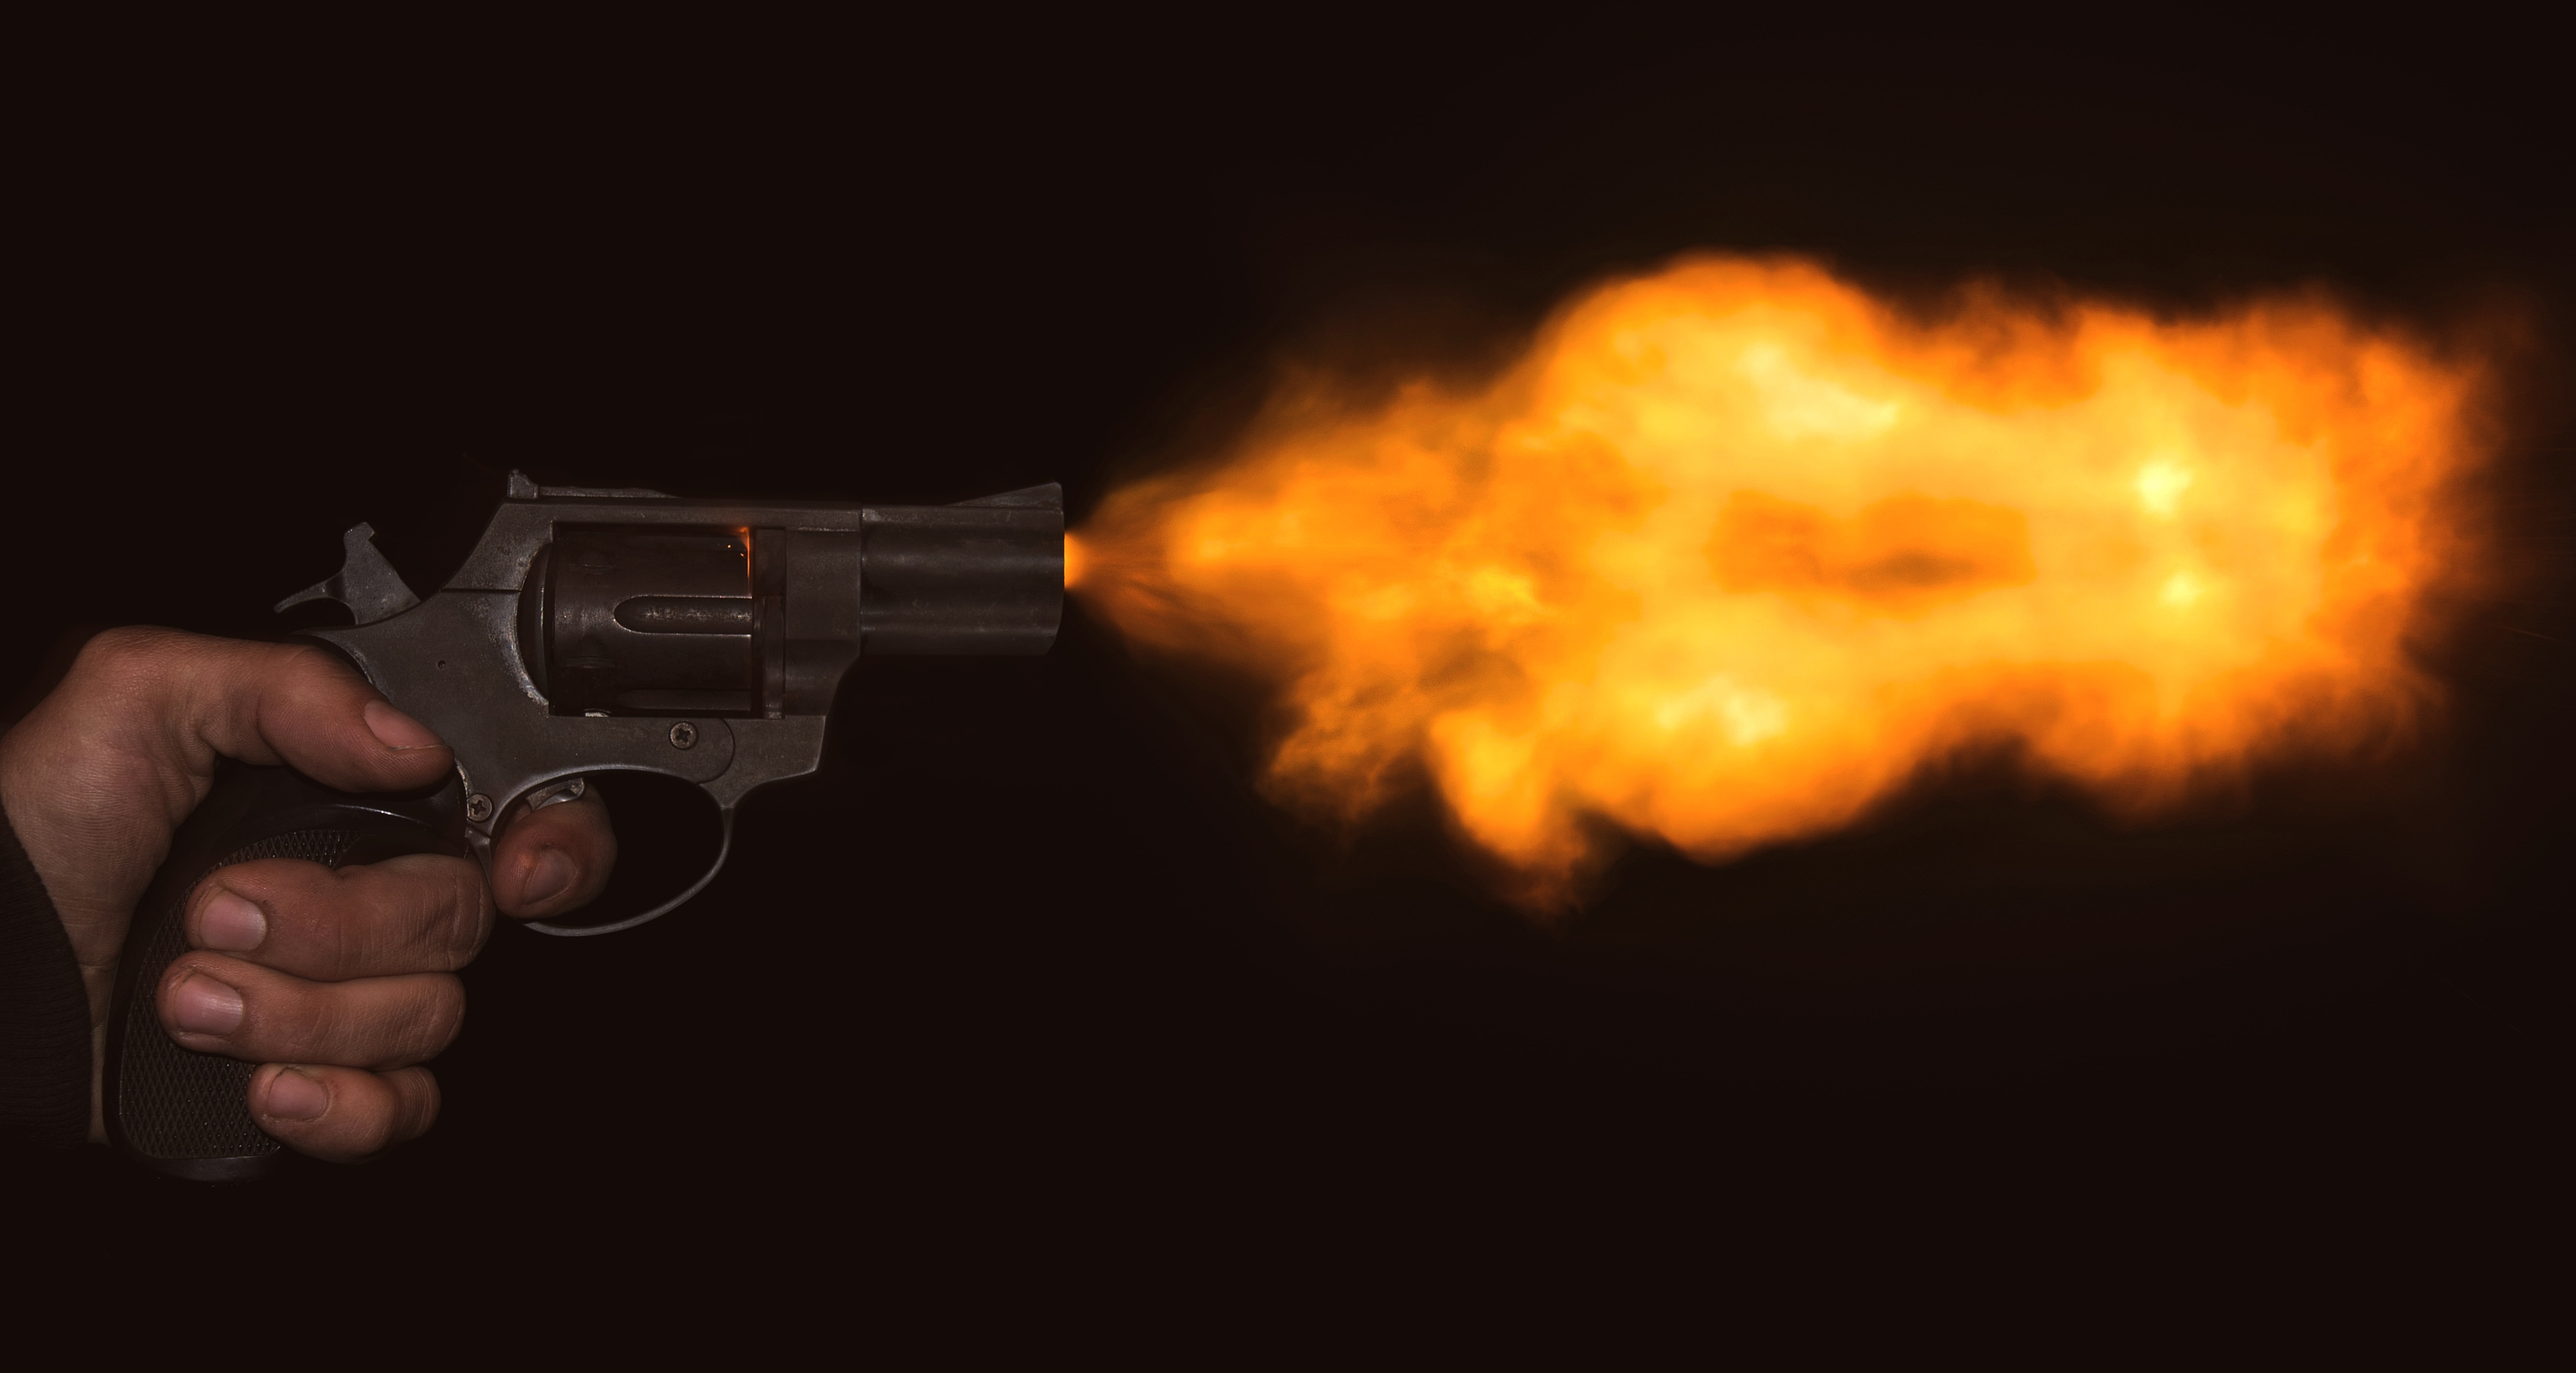gun: (87, 438, 1089, 1201)
